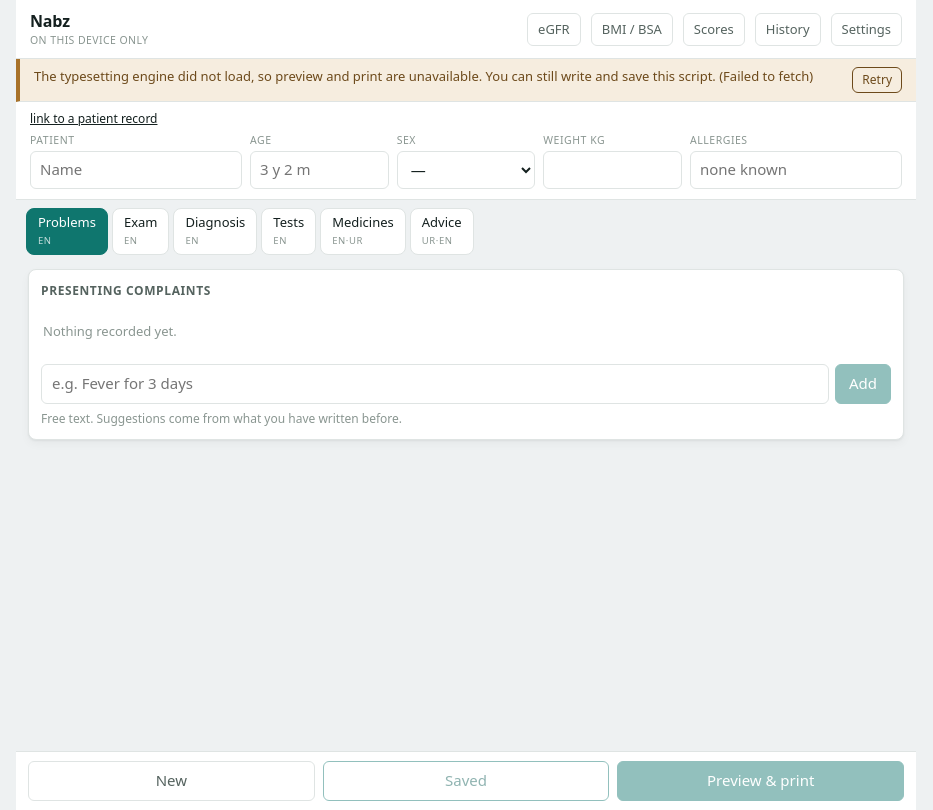
Test: module nav follows the active pack › opening Scores for medicine shows CURB-65 among the choices
Click the button "Scores" at (714, 29), box [683,13,745,46]
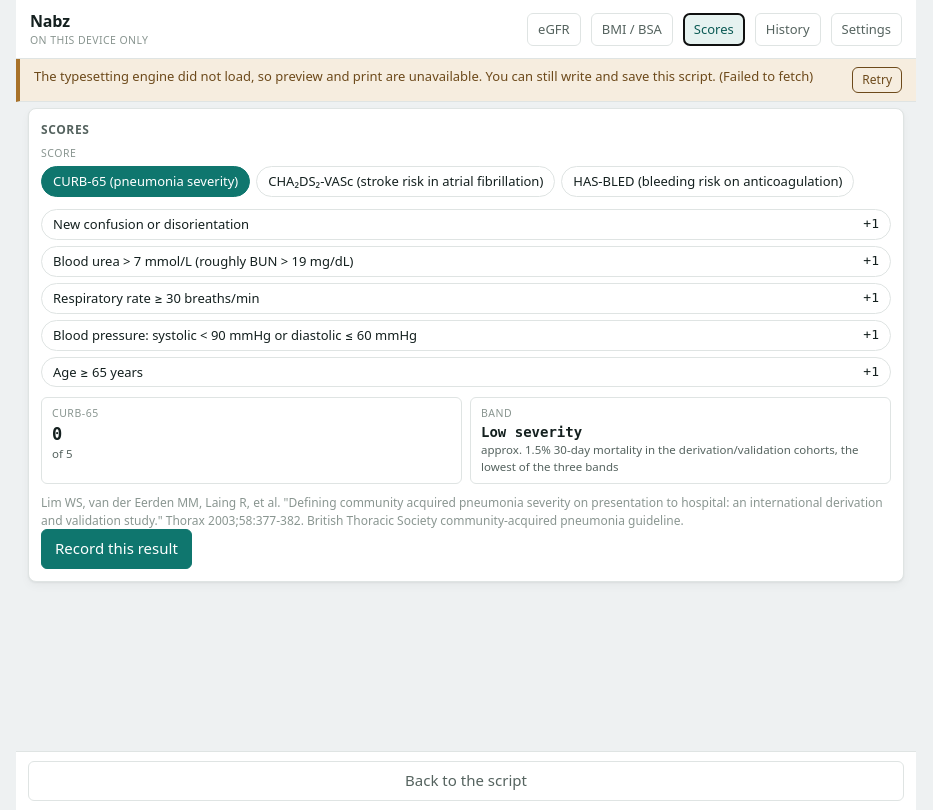
Expected: the button "CURB-65 (pneumonia severity)" is shown, [41,166,250,197]
